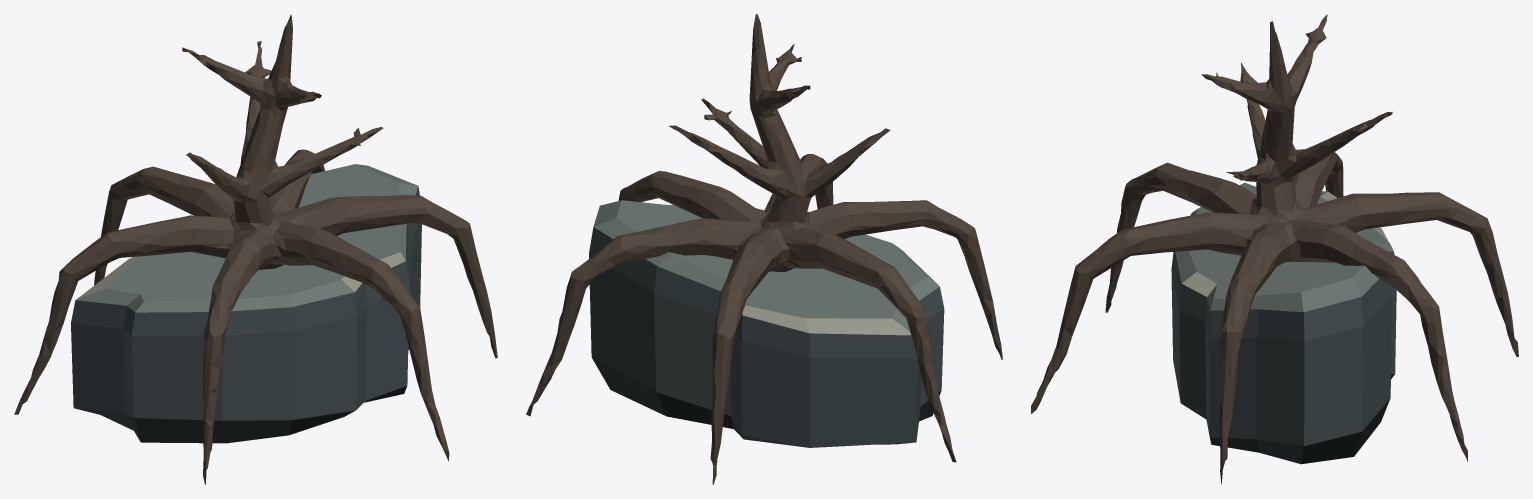
Rendered from BASALT_ROOT_SHRUB.hi.glb.
The picture shows the model from 3 angles, left to right: view 1: azimuth 30°, elevation 25°; view 2: azimuth 150°, elevation 25°; view 3: azimuth 270°, elevation 25°; orthographic projection. The views are drawn at different scales.
Parts seen in each view (by area): view 1: BASALT_ROOT_SHRUB; view 2: BASALT_ROOT_SHRUB; view 3: BASALT_ROOT_SHRUB.
Part boxes in pixels (x1=…): BASALT_ROOT_SHRUB: x1=14, y1=14, x2=497, y2=484; BASALT_ROOT_SHRUB: x1=526, y1=14, x2=1002, y2=484; BASALT_ROOT_SHRUB: x1=1031, y1=14, x2=1518, y2=484.
Bounding box in the file's own units: 0.8856 × 0.7584 × 0.8765.
Materials: 1 (1 with a texture image).
